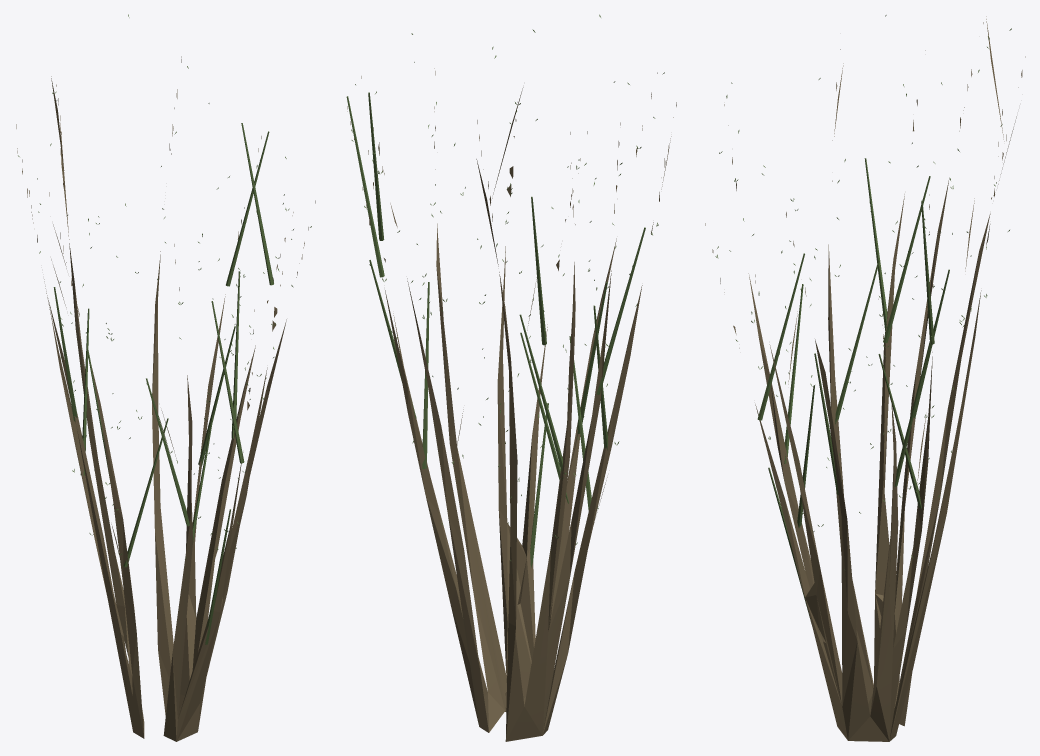
File: BruyereBalais_0_Niveau2.fbx
3 renders of one model, left to right at view 1: azimuth 30°, elevation 25°; view 2: azimuth 150°, elevation 25°; view 3: azimuth 270°, elevation 25°, orthographic. The views are drawn at different scales.
Visible parts, largest first — view 1: BruyereBalais_0_Niveau2; view 2: BruyereBalais_0_Niveau2; view 3: BruyereBalais_0_Niveau2.
Boxes of the visible parts, x1,y1,x2,y2 form: BruyereBalais_0_Niveau2: [16, 14, 315, 741]; BruyereBalais_0_Niveau2: [346, 14, 676, 741]; BruyereBalais_0_Niveau2: [705, 15, 1025, 741].
Bounding box in the file's own units: 55.95 × 133 × 53.97.
